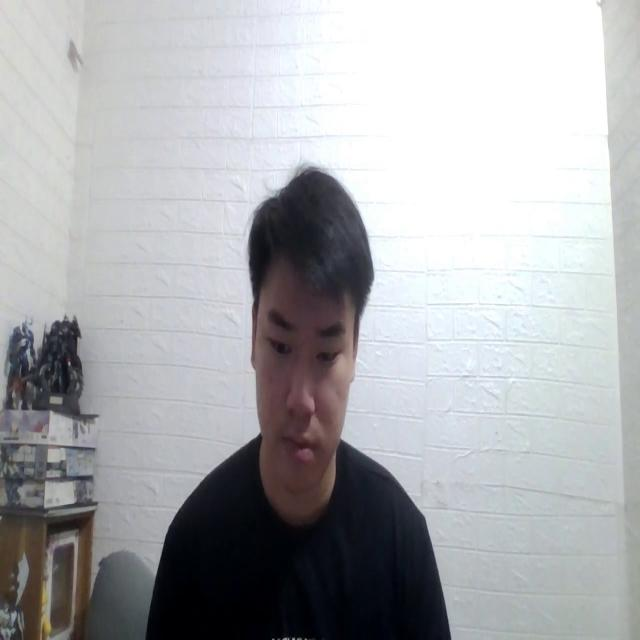student: (142, 166, 446, 640)
